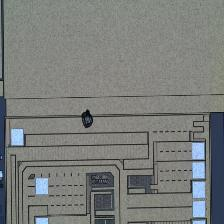PARTICLE: (78, 109, 98, 129)
